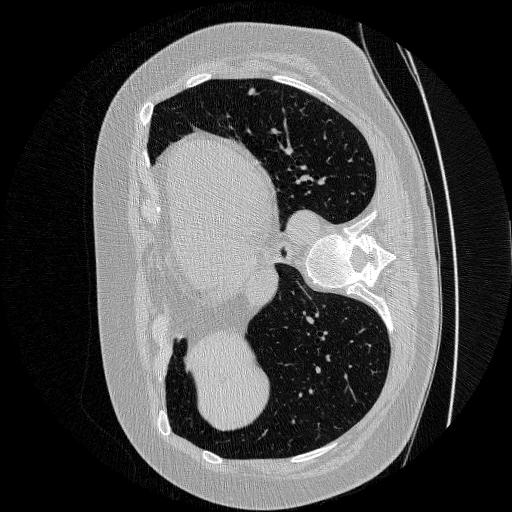nodule: (246, 88, 258, 100)
